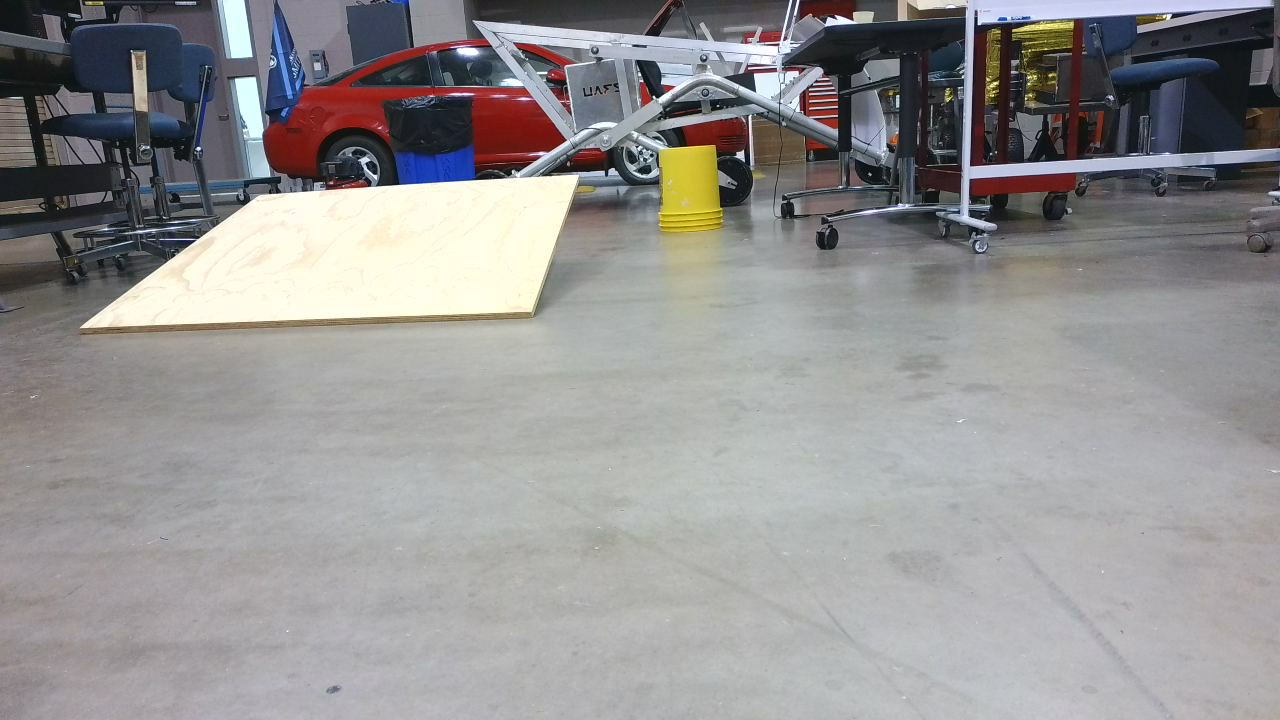concrete_block: (76, 180, 589, 336)
yellow_bucket: (661, 147, 729, 238)
